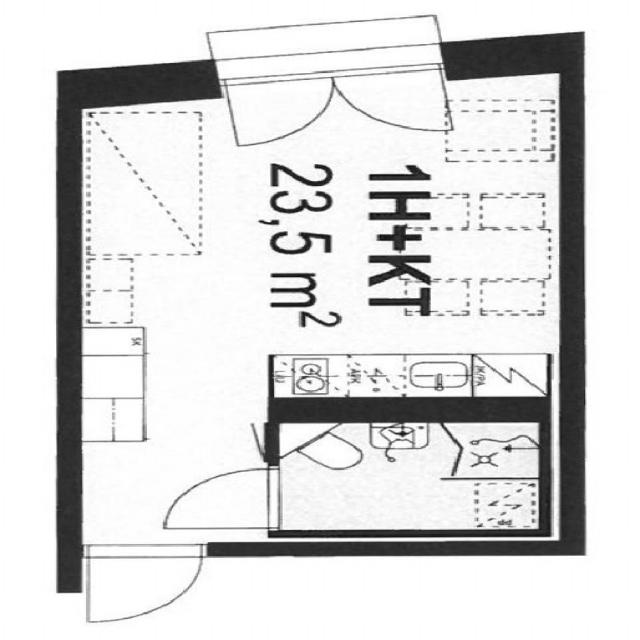door: (331, 63, 453, 138), (87, 542, 202, 621), (224, 72, 346, 146), (163, 469, 280, 528)
